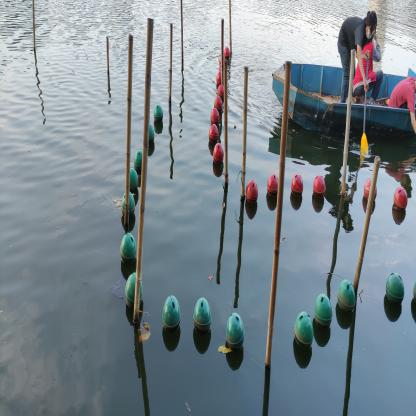green_buoy: (224, 310, 245, 357), (337, 277, 357, 325), (294, 307, 313, 357), (192, 295, 213, 339), (314, 292, 334, 338), (162, 291, 181, 335), (387, 273, 406, 316), (121, 231, 138, 264), (154, 104, 164, 128), (135, 146, 142, 172), (131, 167, 138, 193)
red_buoy: (391, 185, 410, 220), (311, 172, 326, 204), (362, 180, 378, 208), (245, 179, 257, 211), (213, 143, 226, 170), (292, 174, 304, 201), (207, 122, 219, 149), (267, 172, 279, 198), (209, 108, 222, 122), (214, 95, 224, 108), (224, 44, 231, 60), (215, 73, 224, 85), (216, 86, 226, 92)
